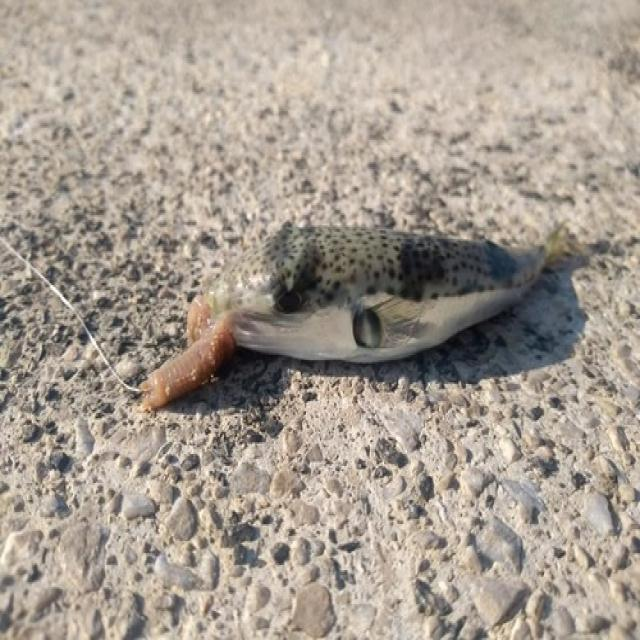Balik: (144, 224, 560, 407)
